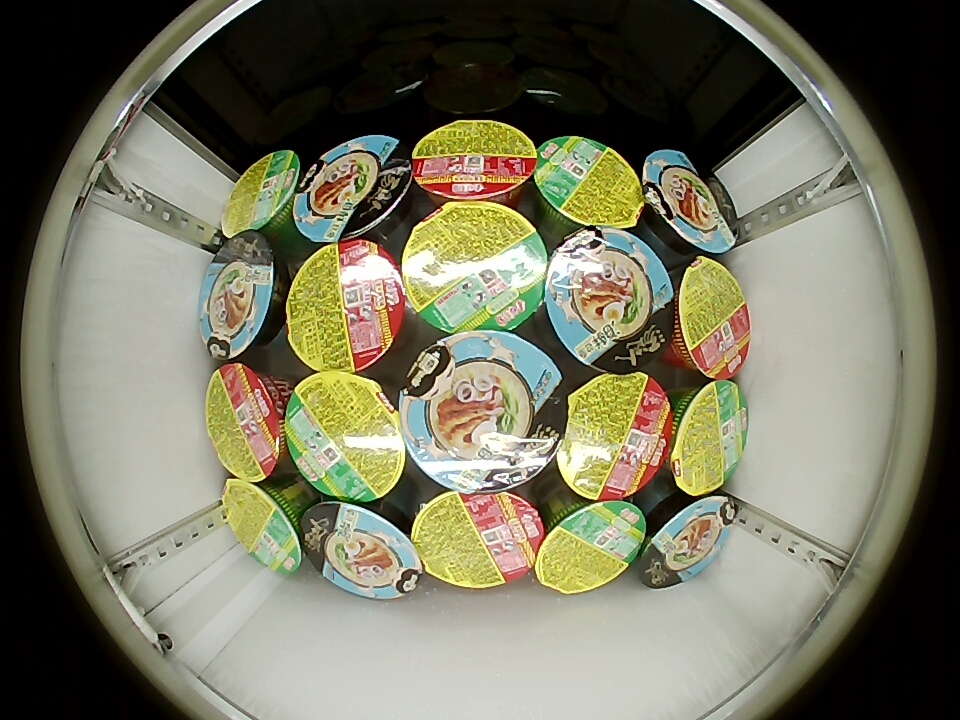heweidao2: (400, 199, 549, 333), (284, 372, 406, 503), (534, 499, 647, 596), (532, 135, 643, 232), (668, 379, 748, 496), (222, 477, 305, 575), (221, 150, 303, 240)
heweidao3: (286, 239, 407, 374), (558, 371, 672, 501), (411, 488, 544, 590), (411, 118, 537, 202), (667, 256, 751, 380), (205, 363, 287, 483)
tangdaren3: (400, 331, 566, 492), (544, 228, 674, 372), (292, 134, 414, 244), (300, 500, 420, 600), (199, 230, 289, 361), (640, 149, 739, 258), (638, 493, 736, 589)
